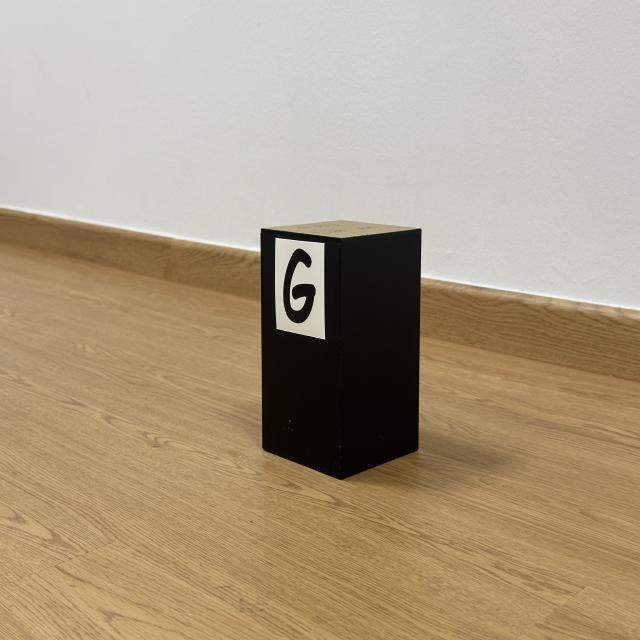G: (284, 248, 316, 323)
